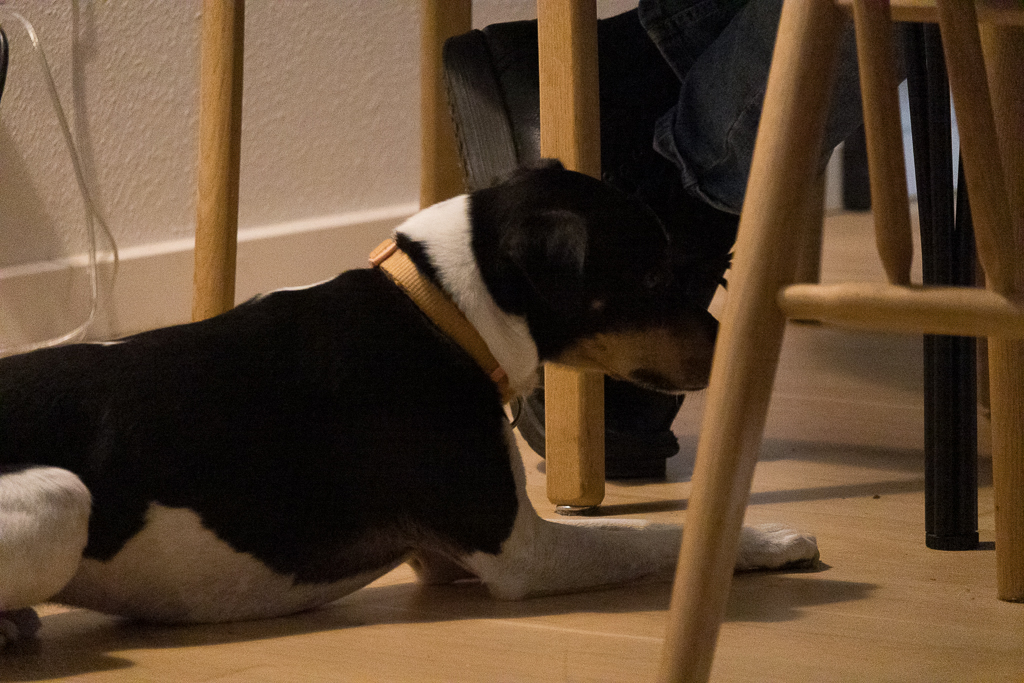Dog: (0, 147, 844, 647)
Humanoid: (433, 0, 946, 490)
